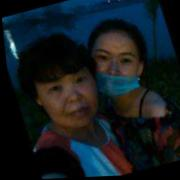NONE: (33, 64, 103, 134)
WRONG: (83, 35, 147, 102)
